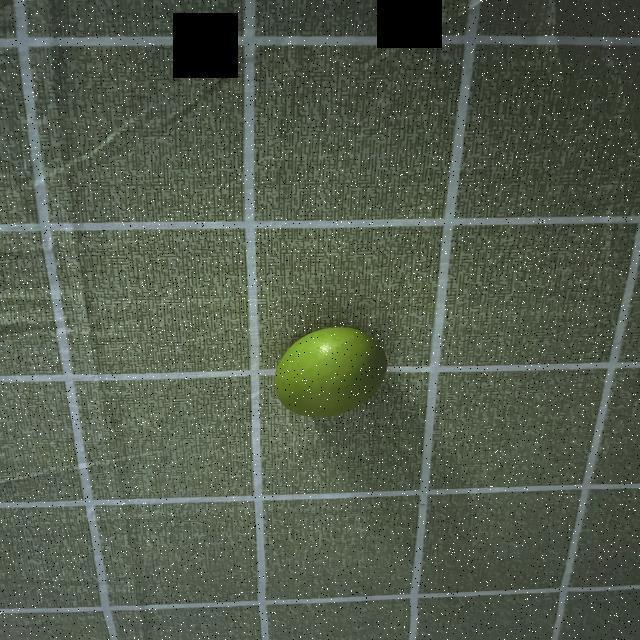egg: (270, 322, 394, 420)
